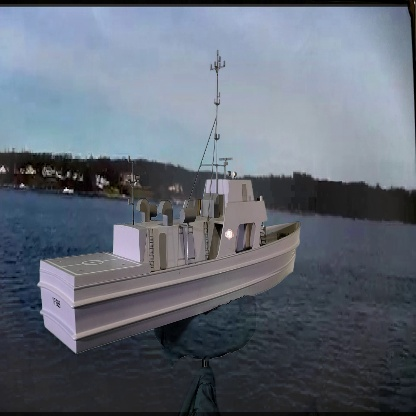YP689: (38, 51, 303, 355)
